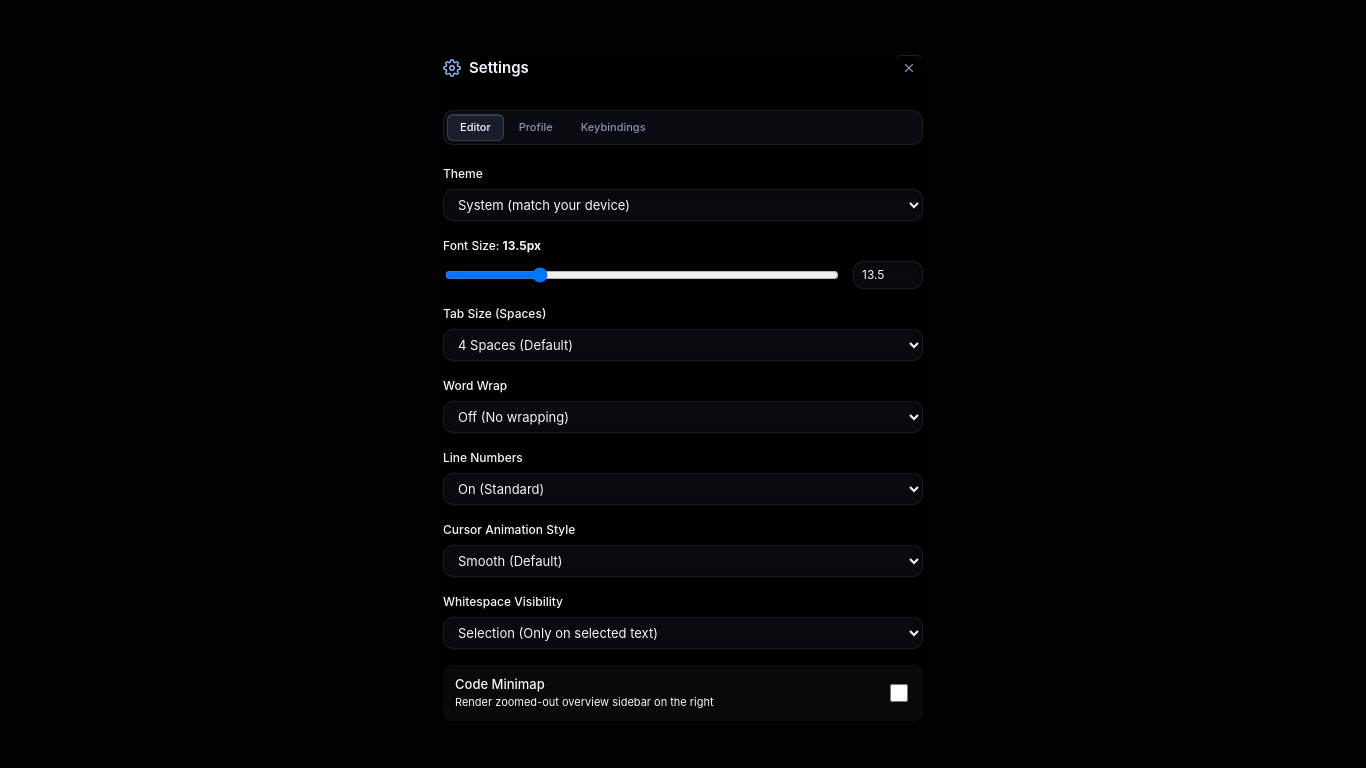
Test: M62-4 — SettingsModal Profile tab › 5. renders persisted values
The width and height of the screenshot is (1366, 768).
Step 1. Click the tab "Profile" → [536, 128], box x1=506 y1=114 x2=566 y2=141
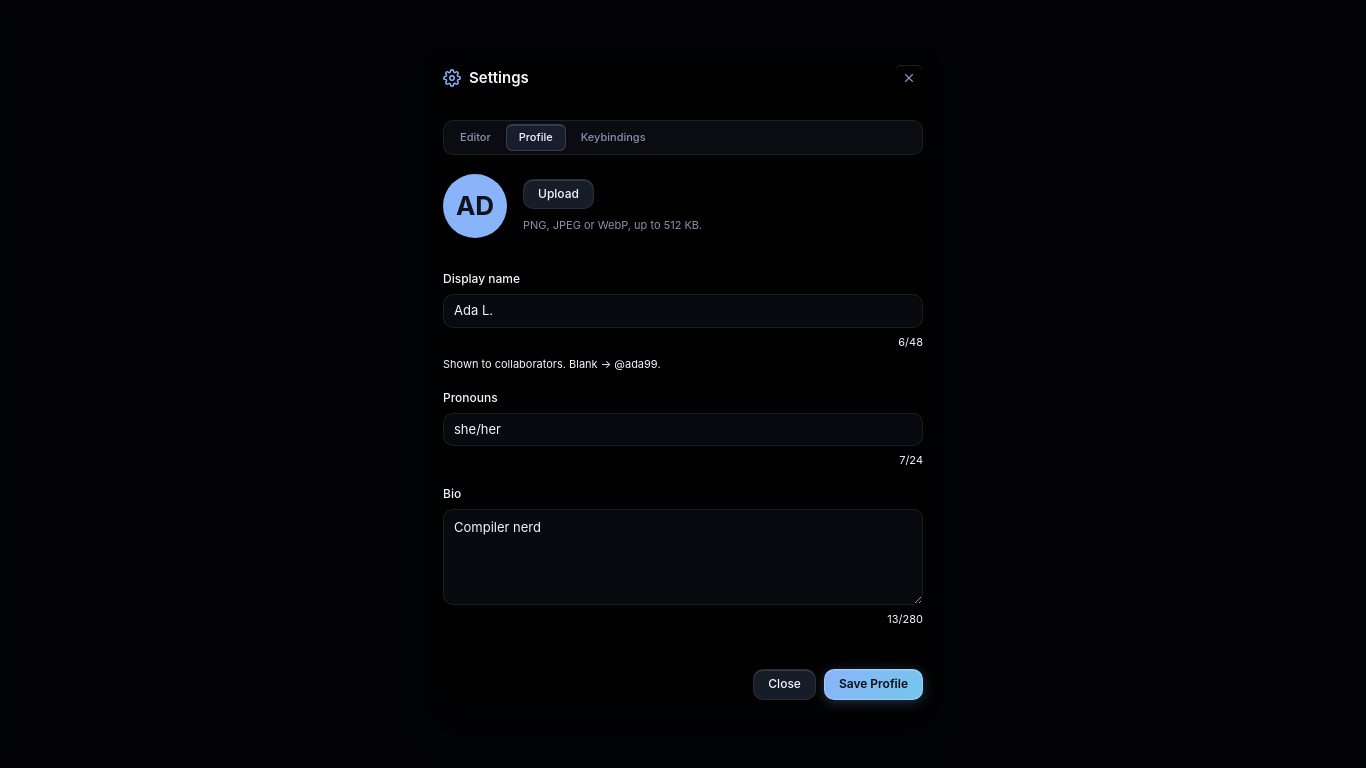
Now the field labelled "Display name" holds "Ada L.", box x1=443 y1=294 x2=923 y2=328
Now the field labelled "Pronouns" holds "she/her", box x1=443 y1=413 x2=923 y2=446
Now the text box labelled "Bio" holds "Compiler nerd", box x1=443 y1=509 x2=923 y2=605
